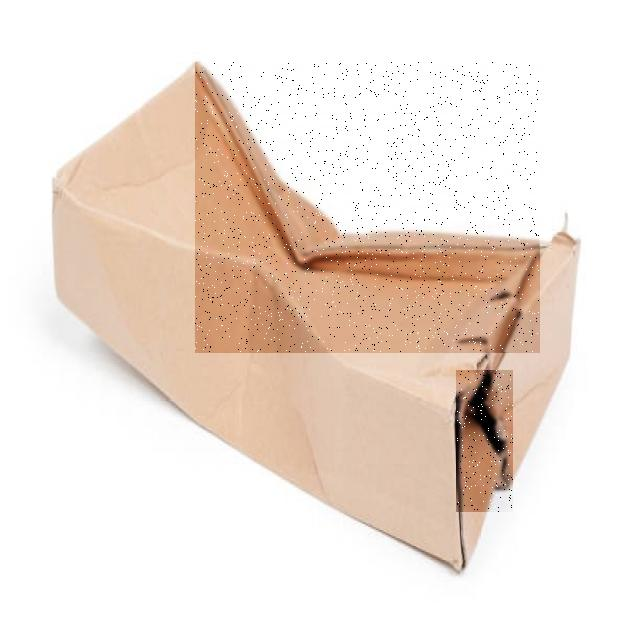squeeze: (195, 63, 539, 352)
tear: (456, 370, 513, 512)
